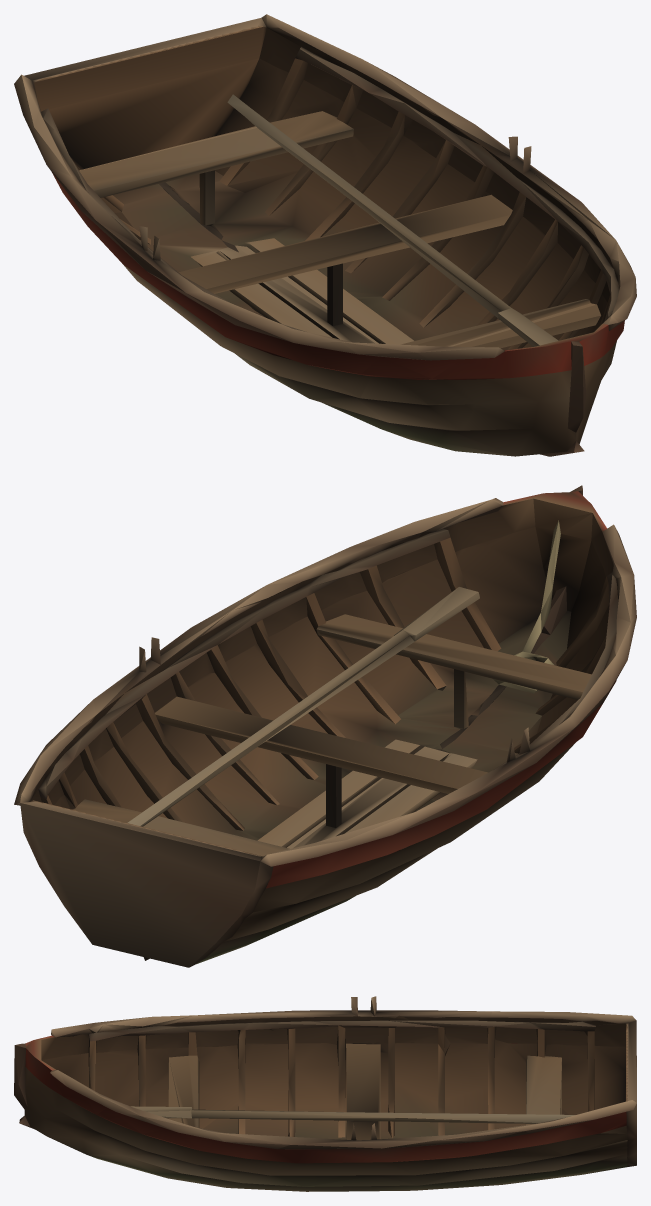
Rendered from rowboat.glb.
3 renders of one model, top to bottom at view 1: azimuth 30°, elevation 25°; view 2: azimuth 150°, elevation 25°; view 3: azimuth 270°, elevation 25°, orthographic. The views are drawn at different scales.
Visible parts, largest first — view 1: rowboat_LOD0; view 2: rowboat_LOD0; view 3: rowboat_LOD0.
Part boxes in pixels (x1,y1,x2,y2): rowboat_LOD0: (14, 14, 636, 456); rowboat_LOD0: (14, 485, 636, 967); rowboat_LOD0: (14, 996, 636, 1191).
Size of what is drawn, in the model's own units: 2.3 by 0.9994 by 4.5.
